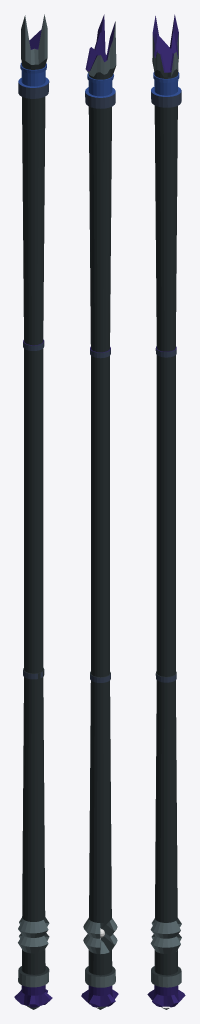
The model's file is MinoriWeapon.fbx.
3 views of the same model, side by side, from view 1: azimuth 90°, elevation 25°; view 2: azimuth 210°, elevation 25°; view 3: azimuth 270°, elevation 25° (orthographic).
Visible parts, largest first — view 1: Minori Weap; view 2: Minori Weap; view 3: Minori Weap.
Boxes of the visible parts, <box> form: Minori Weap: <box>14,14,52,1009</box>; Minori Weap: <box>81,14,118,1009</box>; Minori Weap: <box>147,14,185,1009</box>.
Size of the model in its own units: 6.18 by 183 by 6.37.
